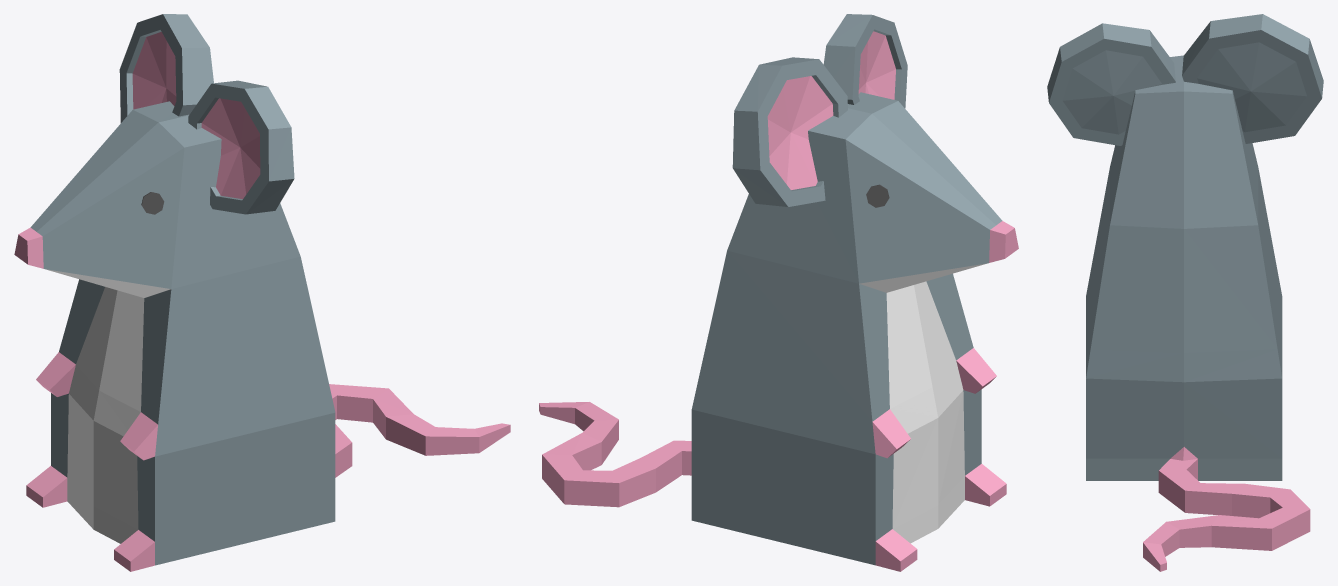
Rendered from nezumi.glb.
The picture shows the model from 3 angles, left to right: view 1: azimuth 30°, elevation 25°; view 2: azimuth 150°, elevation 25°; view 3: azimuth 270°, elevation 25°; orthographic projection. The views are drawn at different scales.
Visible parts, largest first — view 1: node-0; view 2: node-0; view 3: node-0.
Part boxes in pixels (x1,y1,x2,y2): node-0: (14,14,510,571); node-0: (539,14,1018,571); node-0: (1047,14,1323,571).
Bounding box in the file's own units: 39.49 × 36.28 × 21.08.
